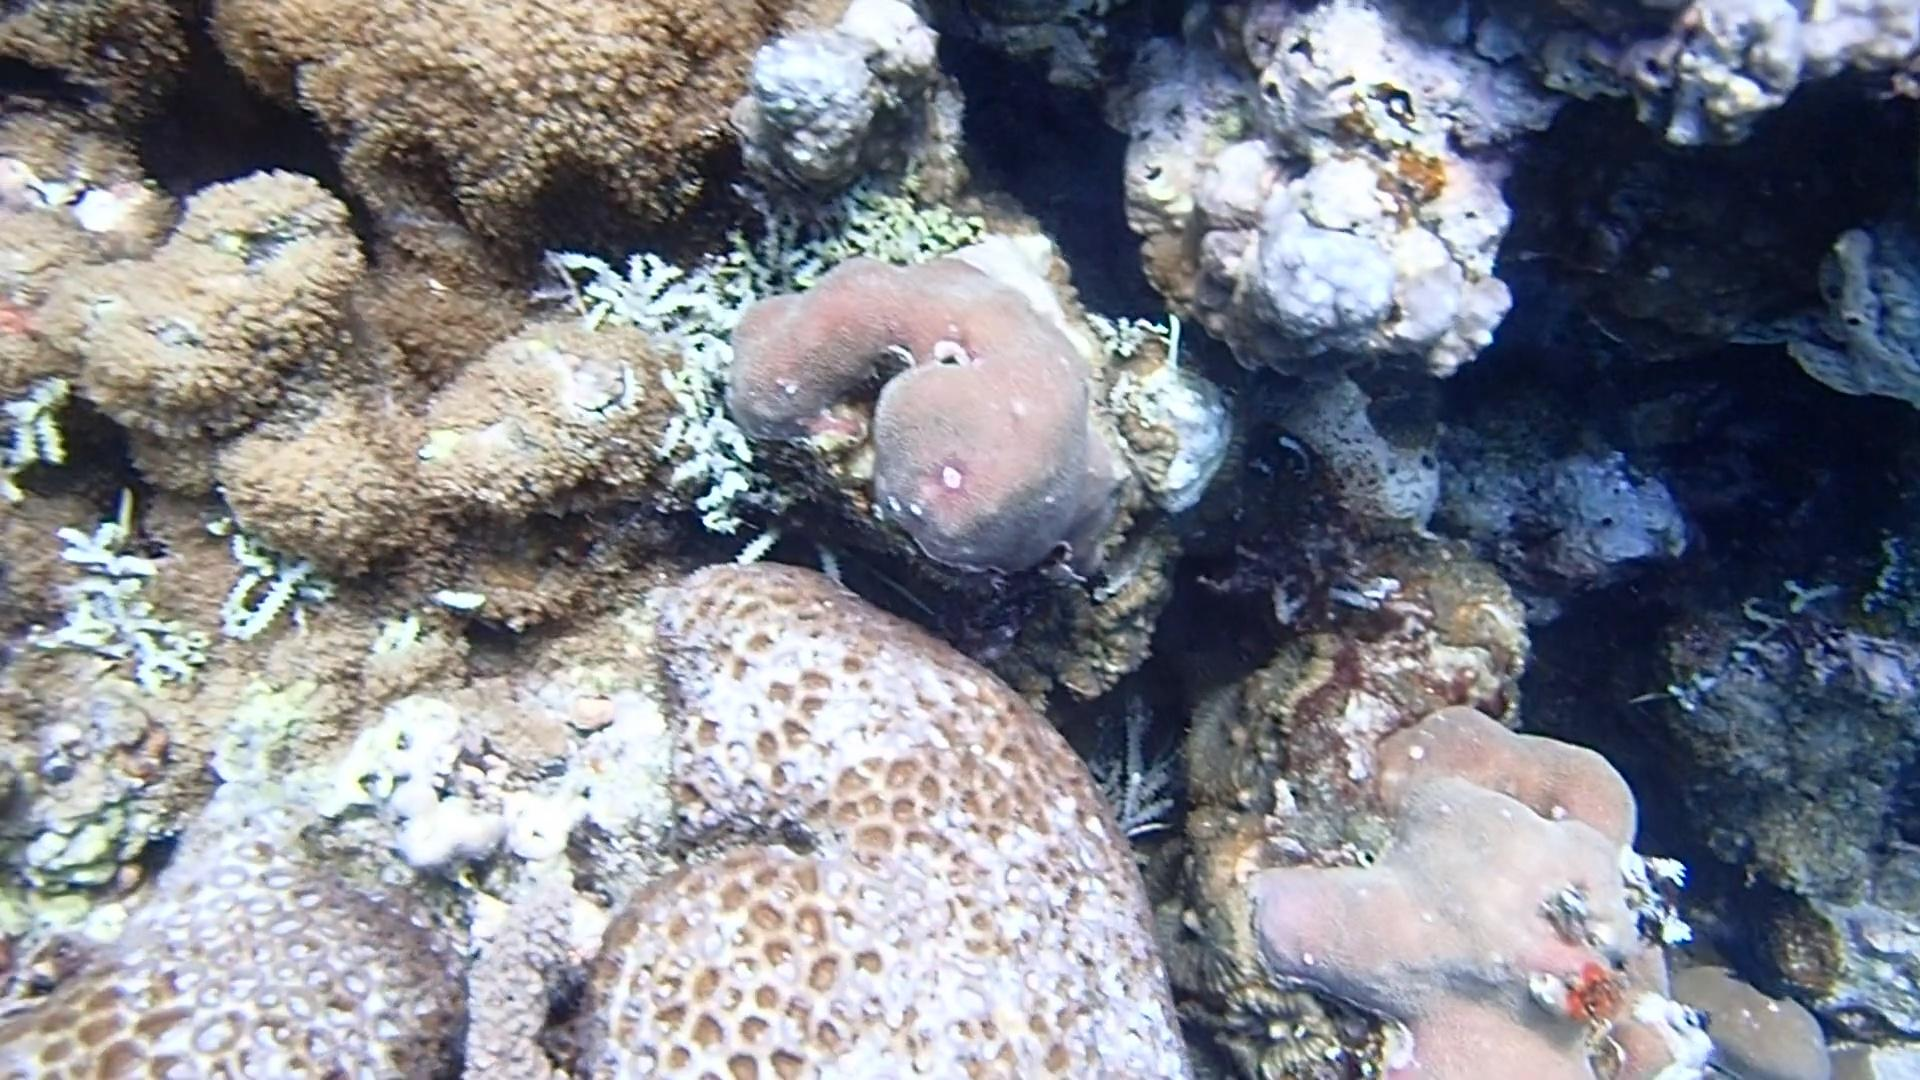Dark Fish: (1701, 913, 1797, 1002)
